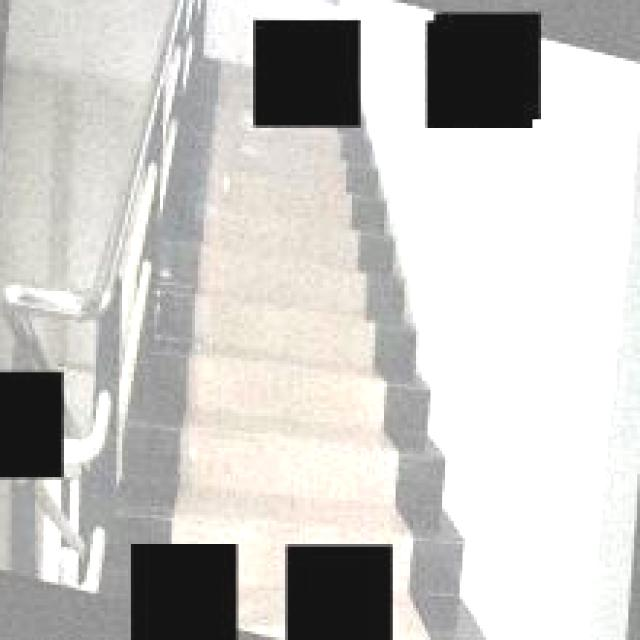upstair: (179, 129, 411, 522)
